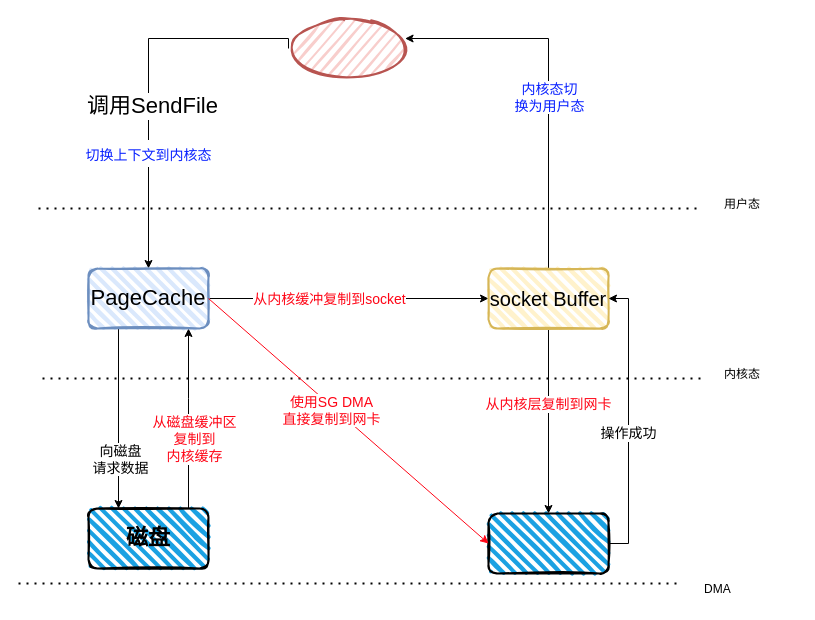
This 815x620 diagram has some shape labels left out. The box of each missing label's shape, as (x1, y1, x2, y2) in pixels:
用户进程: (287, 17, 409, 79)
网卡: (487, 512, 609, 574)
